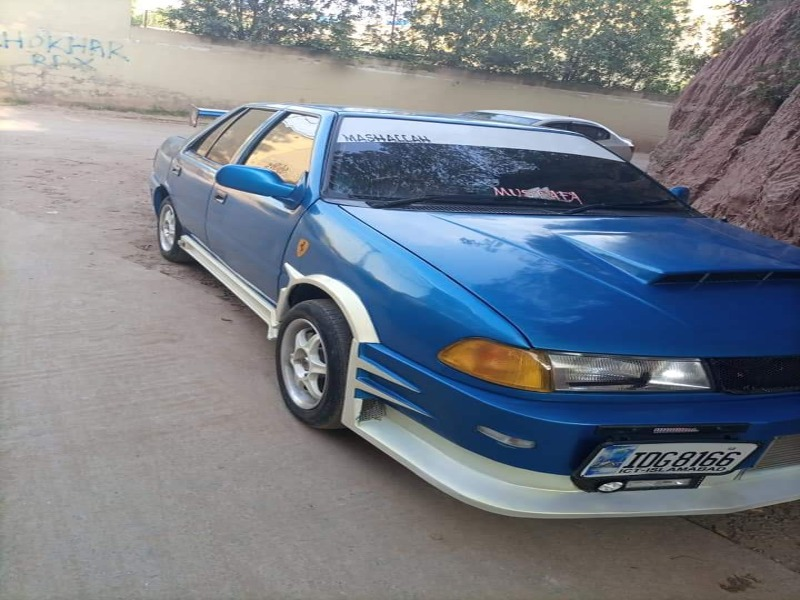License Plate: (581, 434, 761, 490)
